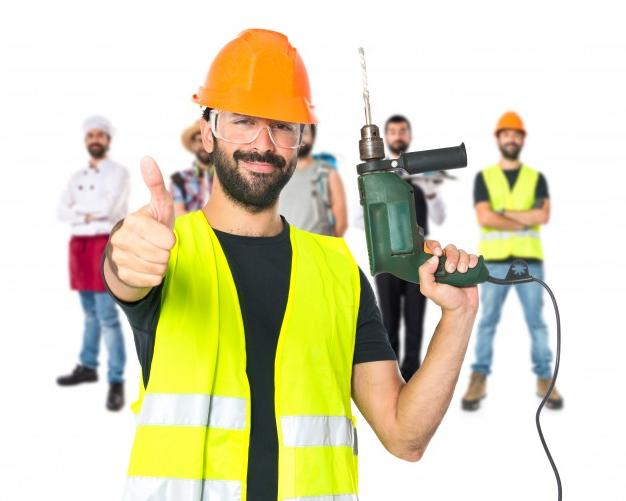thumbsup: (110, 156, 176, 287)
